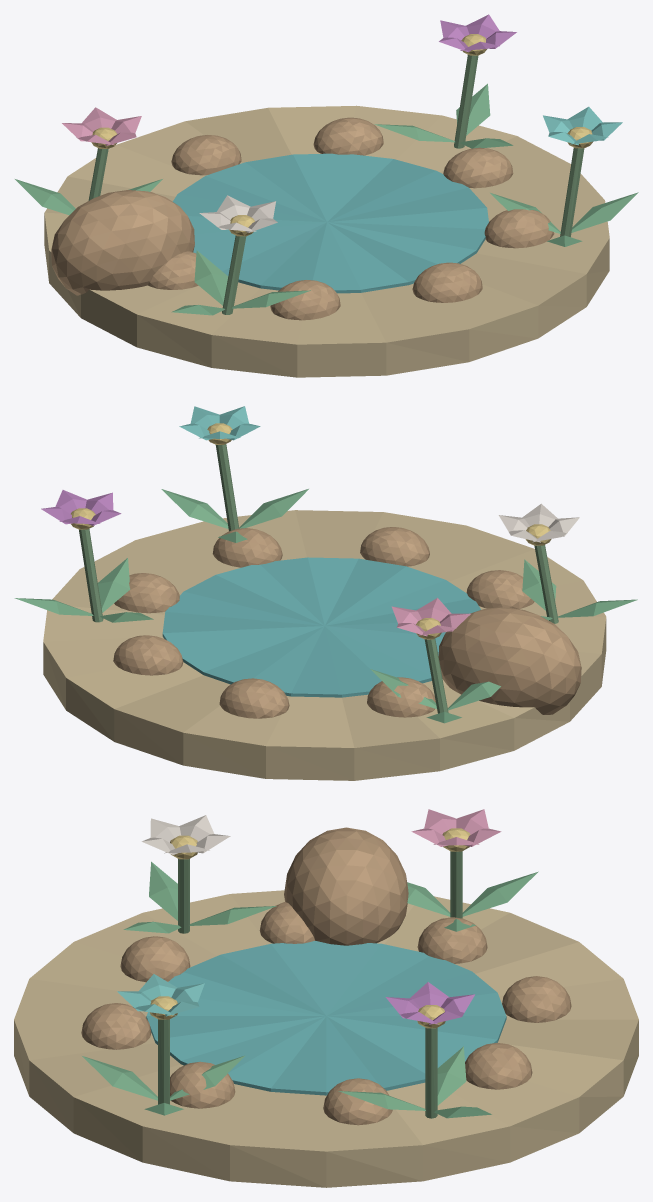
The model's file is oasis_flower_garden.glb.
3 views of the same model, one above another, from view 1: azimuth 30°, elevation 25°; view 2: azimuth 150°, elevation 25°; view 3: azimuth 270°, elevation 25° (orthographic). The views are drawn at different scales.
Visible parts, largest first — view 1: sand, pool, large_stone, pool_stone_6, pool_stone_2, pool_stone_0, pool_stone_7, pool_stone_1, pool_stone_5, pool_stone_4, flower_1_stem, flower_2_leaf_0 (+8 smaller); view 2: sand, pool, large_stone, pool_stone_1, pool_stone_2, pool_stone_6, pool_stone_7, pool_stone_5, pool_stone_3, pool_stone_0, flower_1_stem, flower_1_leaf_2 (+9 smaller); view 3: sand, pool, large_stone, pool_stone_6, pool_stone_2, pool_stone_1, pool_stone_5, pool_stone_3, pool_stone_0, pool_stone_7, pool_stone_4, flower_1_stem (+16 smaller).
Part boxes in pixels (x1,y1,x2,y2): sand: (44,105,609,377); pool: (172,153,488,293); large_stone: (51,190,194,295); pool_stone_6: (412,262,482,302); pool_stone_2: (171,135,241,175); pool_stone_0: (443,147,513,188); pool_stone_7: (484,209,554,248); pool_stone_1: (313,117,383,155); pool_stone_5: (270,280,340,320); pool_stone_4: (148,251,198,289); flower_1_stem: (454,54,478,148); flower_2_leaf_0: (194,250,228,305); sand: (43,510,606,780); pool: (162,557,480,697); large_stone: (438,607,581,714); pool_stone_1: (113,635,183,675); pool_stone_2: (219,678,289,718); pool_stone_6: (360,527,429,566); pool_stone_7: (212,528,282,567); pool_stone_5: (466,570,534,609); pool_stone_3: (367,677,435,717); pool_stone_0: (114,573,179,613); flower_1_stem: (79,529,103,622); flower_1_leaf_2: (98,558,130,612); sand: (14,890,638,1187); pool: (146,941,506,1095); large_stone: (284,827,408,945); pool_stone_6: (81,1003,151,1049); pool_stone_2: (502,976,571,1022); pool_stone_1: (465,1042,532,1089); pool_stone_5: (120,936,190,982); pool_stone_3: (417,917,487,963); pool_stone_0: (323,1078,392,1125); pool_stone_7: (170,1061,235,1108); pool_stone_4: (259,902,314,943); flower_1_stem: (425,1028,437,1118).
Bounding box in the file's own units: 2.58 × 0.7 × 2.5.
